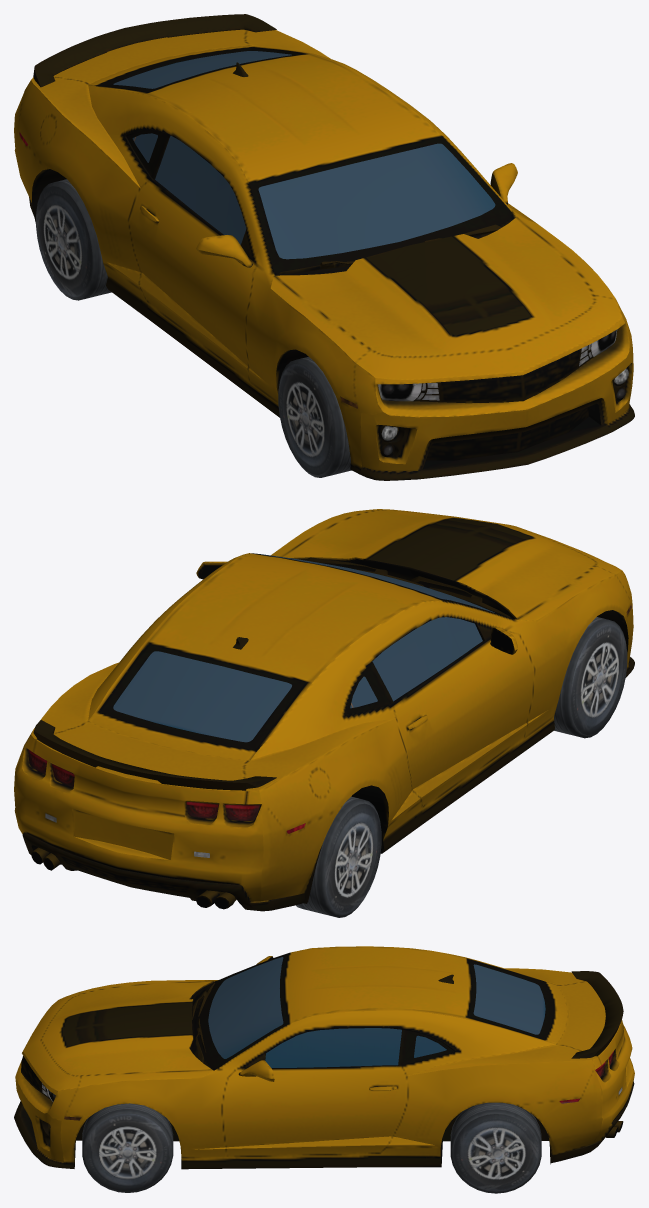
Rendered from SpecialCar.glb.
3 renders of one model, top to bottom at view 1: azimuth 30°, elevation 25°; view 2: azimuth 150°, elevation 25°; view 3: azimuth 270°, elevation 25°, orthographic. The views are drawn at different scales.
Visible parts, largest first — view 1: SM_CP_Car_03; view 2: SM_CP_Car_03; view 3: SM_CP_Car_03.
Boxes of the visible parts, x1,y1,x2,y2 form: SM_CP_Car_03: (14, 14, 634, 480); SM_CP_Car_03: (14, 509, 634, 917); SM_CP_Car_03: (14, 946, 634, 1193).
Size of the model in its own units: 2.16 by 1.42 by 4.81.
1 material, 1 textured.
